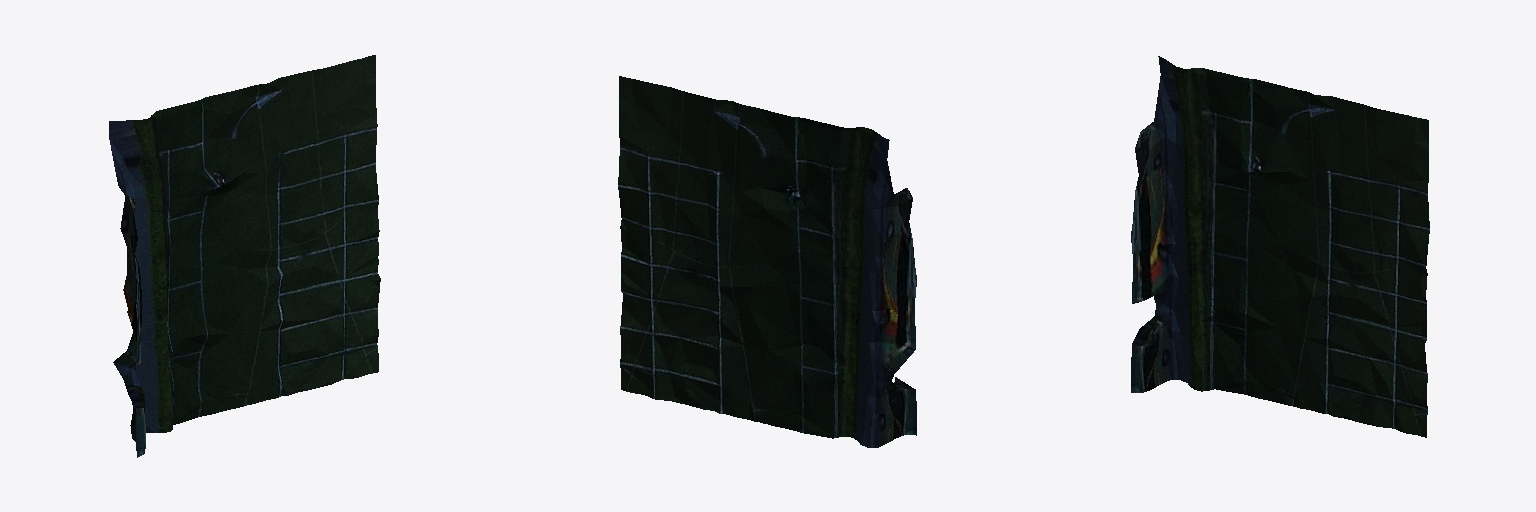
The picture shows the model from 3 angles: view 1: azimuth 30°, elevation 25°; view 2: azimuth 150°, elevation 25°; view 3: azimuth 330°, elevation 25°; orthographic projection.
Visible parts, largest first — view 1: obj_0; view 2: obj_0; view 3: obj_0.
Part boxes in pixels (left/top/right/bottom): obj_0: left=109, top=55, right=380, bottom=457; obj_0: left=618, top=76, right=916, bottom=447; obj_0: left=1131, top=56, right=1429, bottom=437.
Bounding box in the file's own units: 20.1 × 22.53 × 3.93.
Materials: 1 (1 with a texture image).